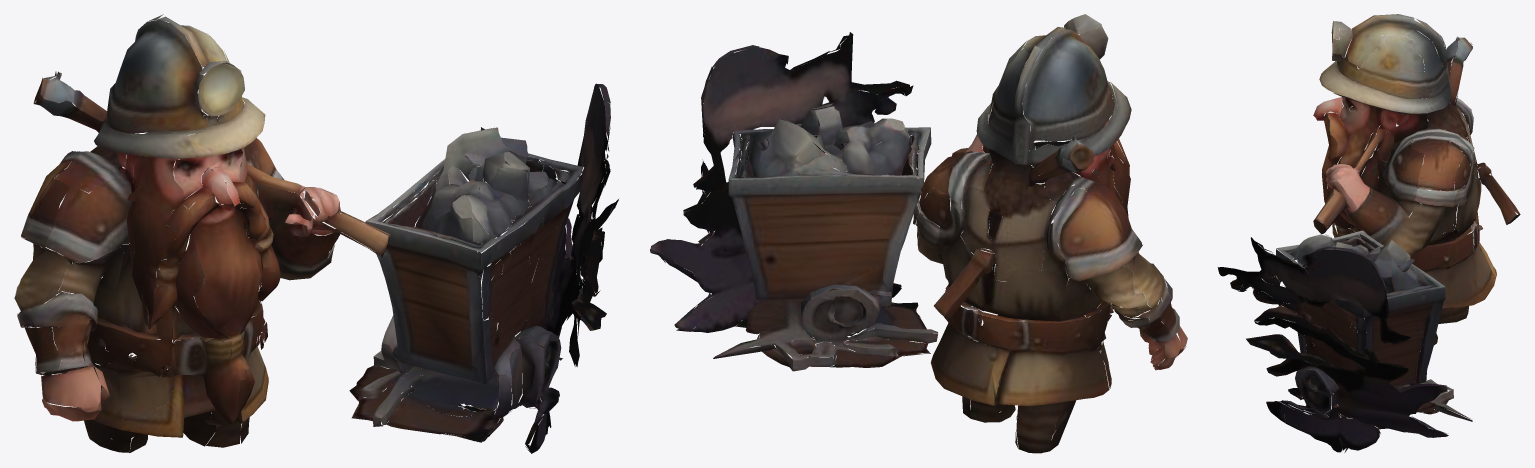
The model's file is dwarf.glb.
3 renders of one model, left to right at view 1: azimuth 30°, elevation 25°; view 2: azimuth 150°, elevation 25°; view 3: azimuth 270°, elevation 25°, orthographic. The views are drawn at different scales.
Visible parts, largest first — view 1: geometry_0; view 2: geometry_0; view 3: geometry_0.
Part boxes in pixels (left/top/right/bottom): geometry_0: left=14, top=14, right=618, bottom=453; geometry_0: left=650, top=14, right=1187, bottom=453; geometry_0: left=1217, top=14, right=1520, bottom=452.
Bounding box in the file's own units: 1 × 0.7718 × 0.6592.
1 material, 1 textured.
